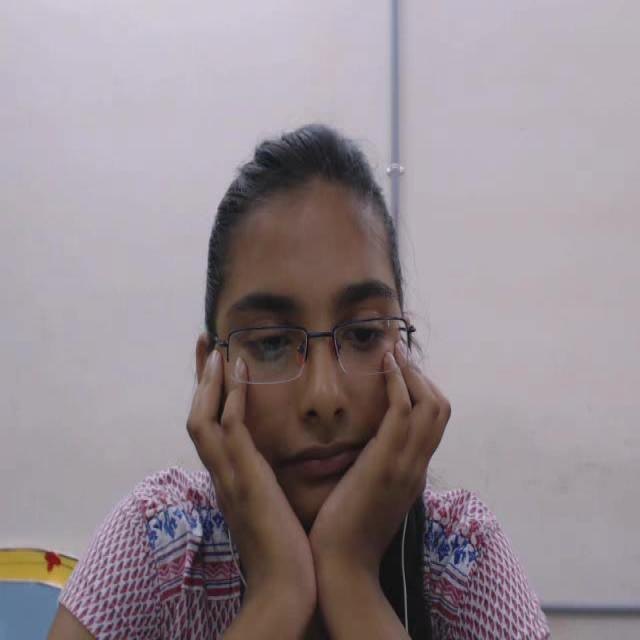Bored: (172, 114, 470, 542)
